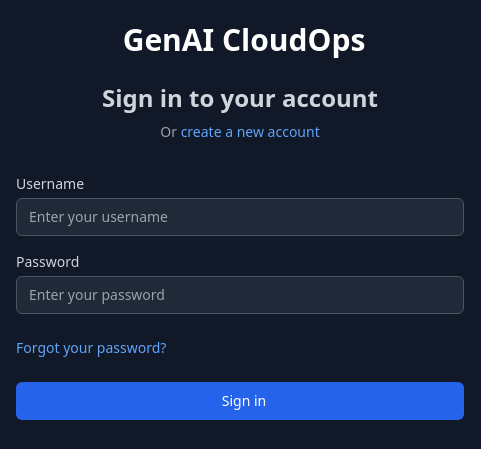
LoginForm - Unit Tests › Form Validation › should show validation error for short password
Type "testuser" into the field labelled "Username" at (240, 217), box [16,198,464,236]
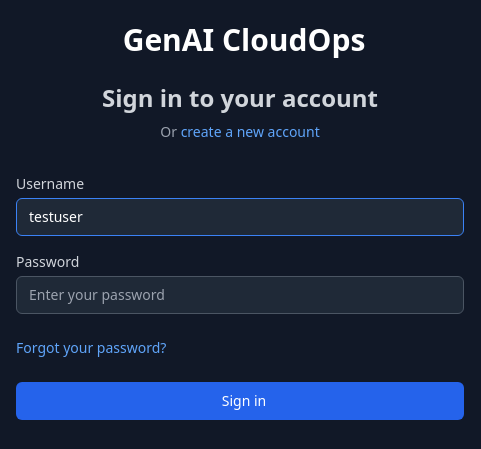
Type "123" into the password field labelled "Password" at (240, 295), box [16,276,464,314]
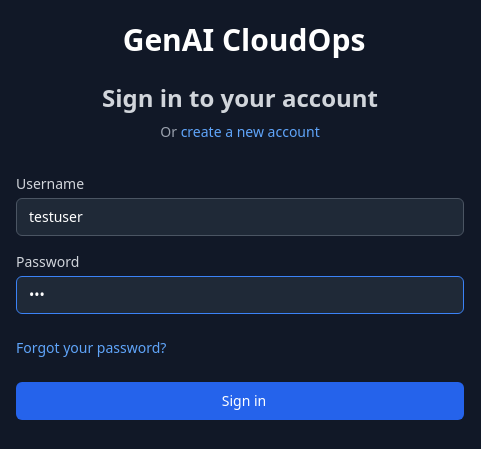
Click the button "Sign in" at (240, 401), box [16,382,464,420]
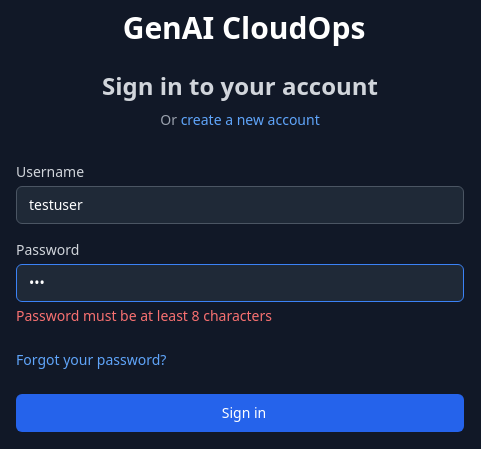
Expected: the text "Password must be at least 8 characters" is shown, [16,306,272,325]
